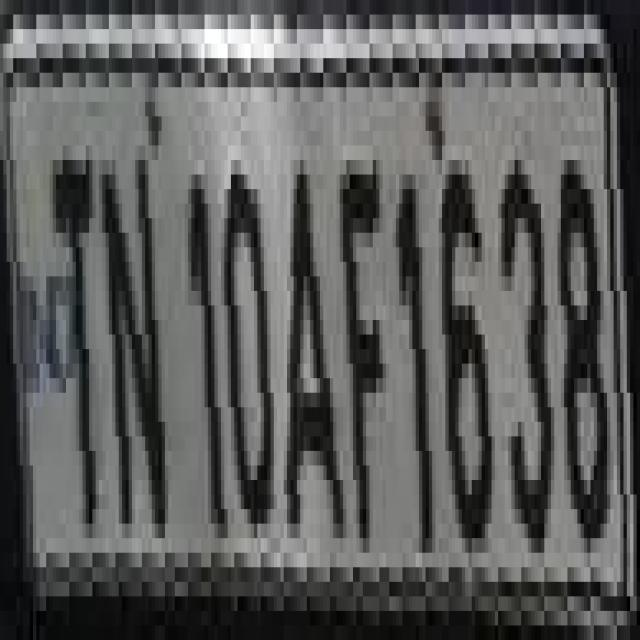license_plate: (33, 14, 630, 596)
